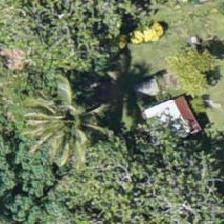Kelapa_Sawit: (24, 70, 114, 160)
